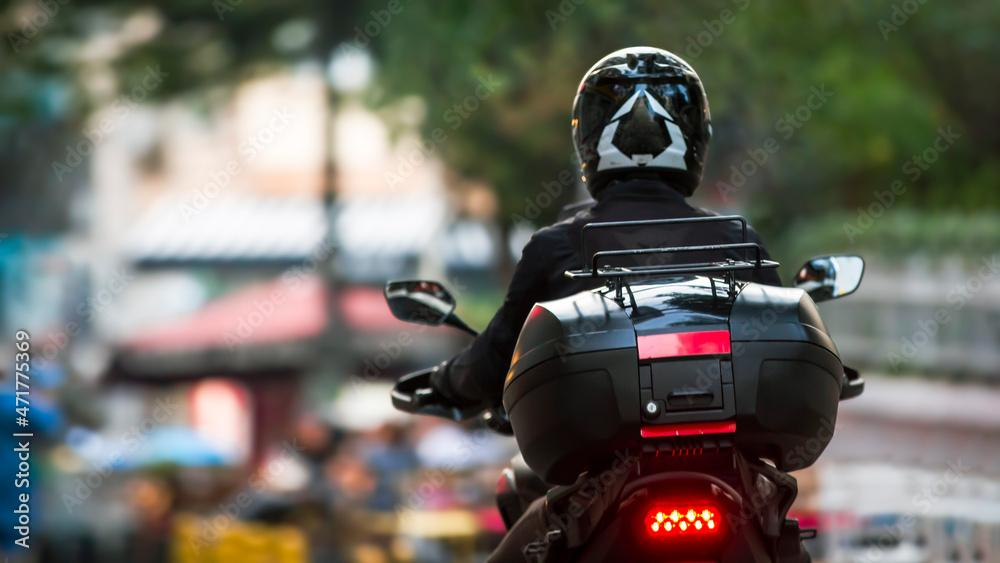helmet: (570, 45, 714, 203)
